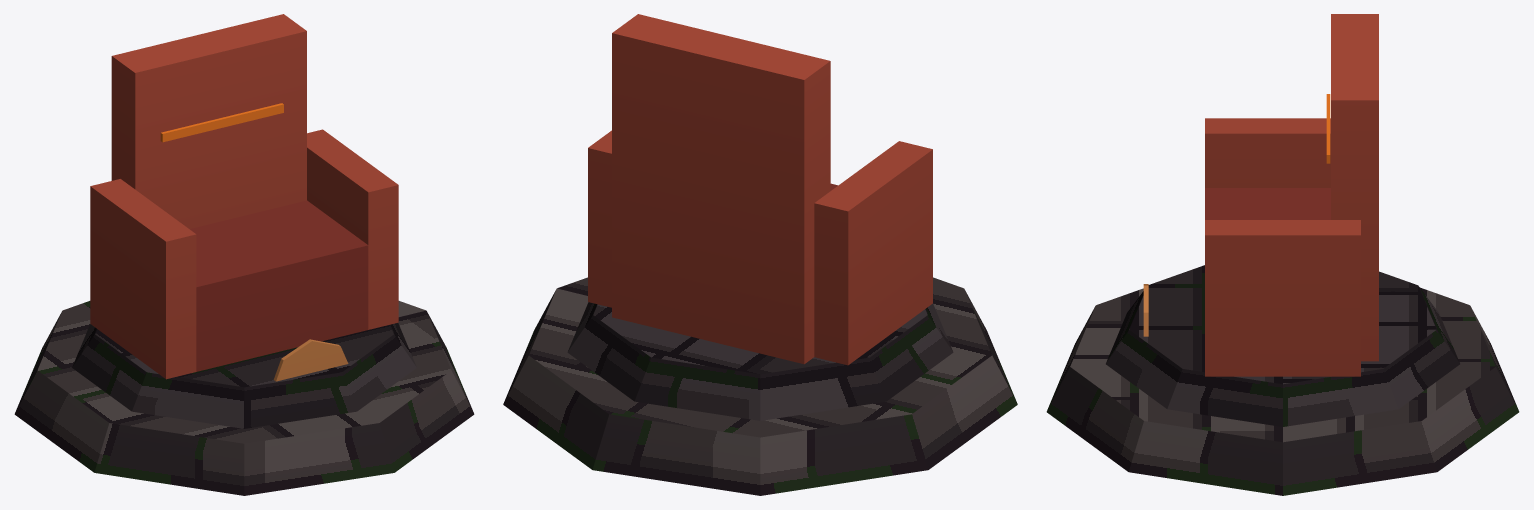
Rendered from wardens_seat.glb.
3 renders of one model, left to right at view 1: azimuth 30°, elevation 25°; view 2: azimuth 150°, elevation 25°; view 3: azimuth 270°, elevation 25°, orthographic. The views are drawn at different scales.
Parts seen in each view (by area): view 1: wardens_seat; view 2: wardens_seat; view 3: wardens_seat.
Boxes of the visible parts, <box> form: wardens_seat: <box>14,14,474,495</box>; wardens_seat: <box>503,14,1017,495</box>; wardens_seat: <box>1046,14,1519,495</box>.
Size of the model in its own units: 3.88 by 3.1 by 3.94.
Materials: 3 (1 with a texture image).
